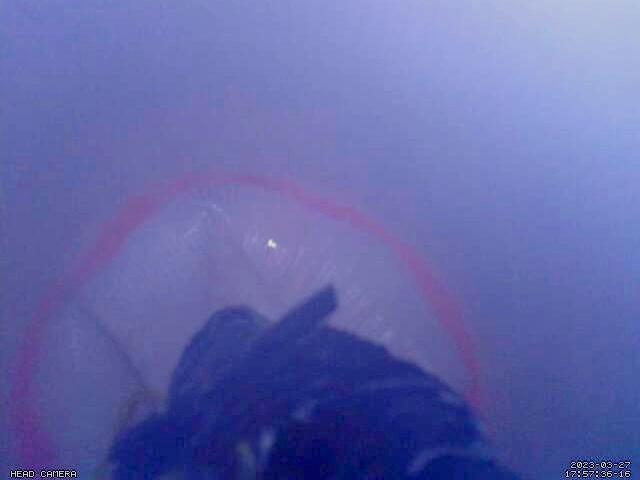head: (9, 169, 489, 480)
